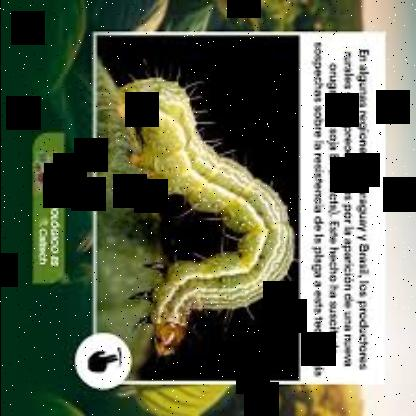oruga: (116, 67, 296, 360)
